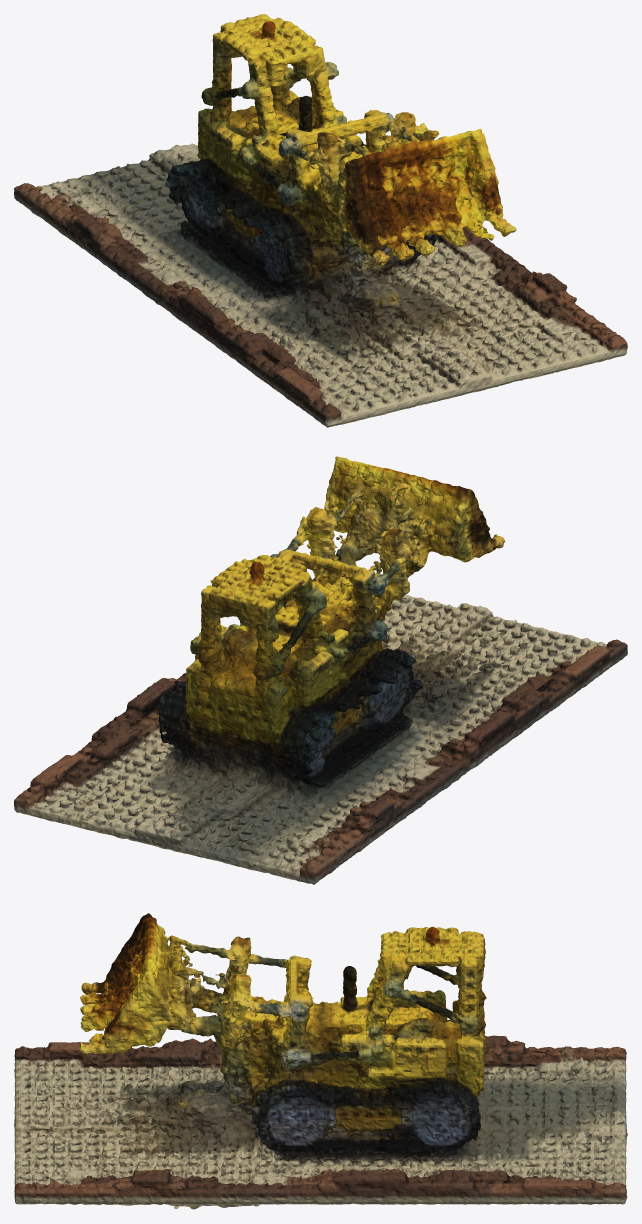
The model's file is lego_dgmesh.glb.
The picture shows the model from 3 angles, top to bottom: view 1: azimuth 30°, elevation 25°; view 2: azimuth 150°, elevation 25°; view 3: azimuth 270°, elevation 25°; orthographic projection. The views are drawn at different scales.
Parts seen in each view (by area): view 1: lego_time_0.5; view 2: lego_time_0.5; view 3: lego_time_0.5.
Boxes of the visible parts, x1,y1,x2,y2 form: lego_time_0.5: [14, 14, 627, 427]; lego_time_0.5: [14, 456, 627, 884]; lego_time_0.5: [14, 913, 627, 1209].
Size of the model in its own units: 1.23 by 1.05 by 2.19.
